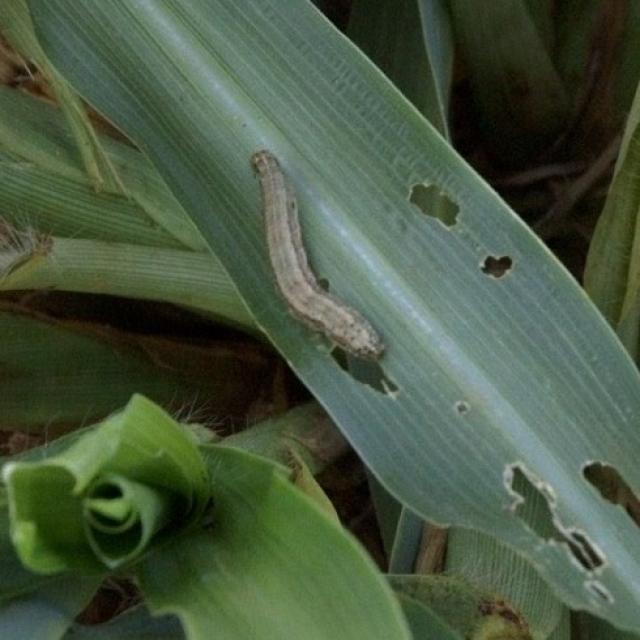Fall-armyworm: (250, 151, 382, 358)
